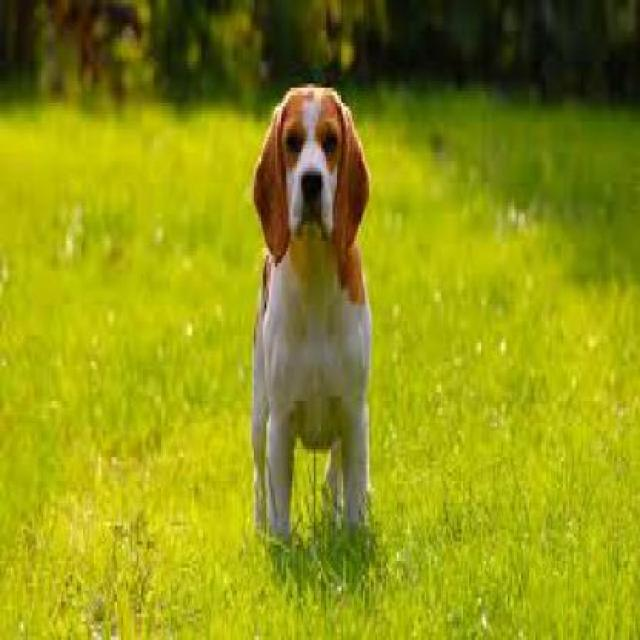Dog: (252, 78, 378, 554)
